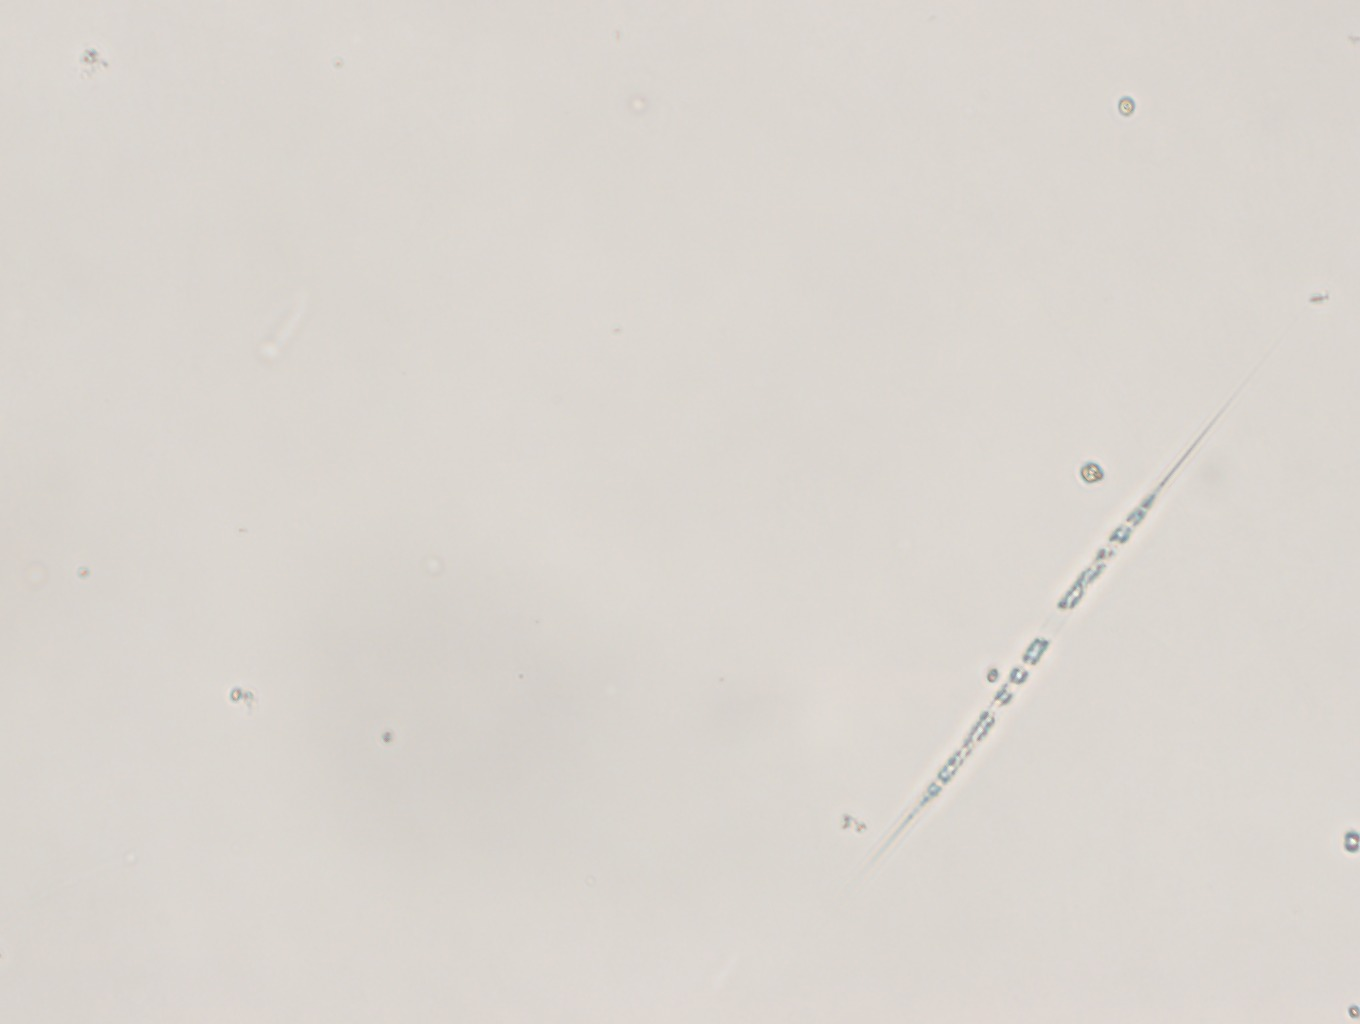ceratium fusus: (868, 351, 1257, 874)
